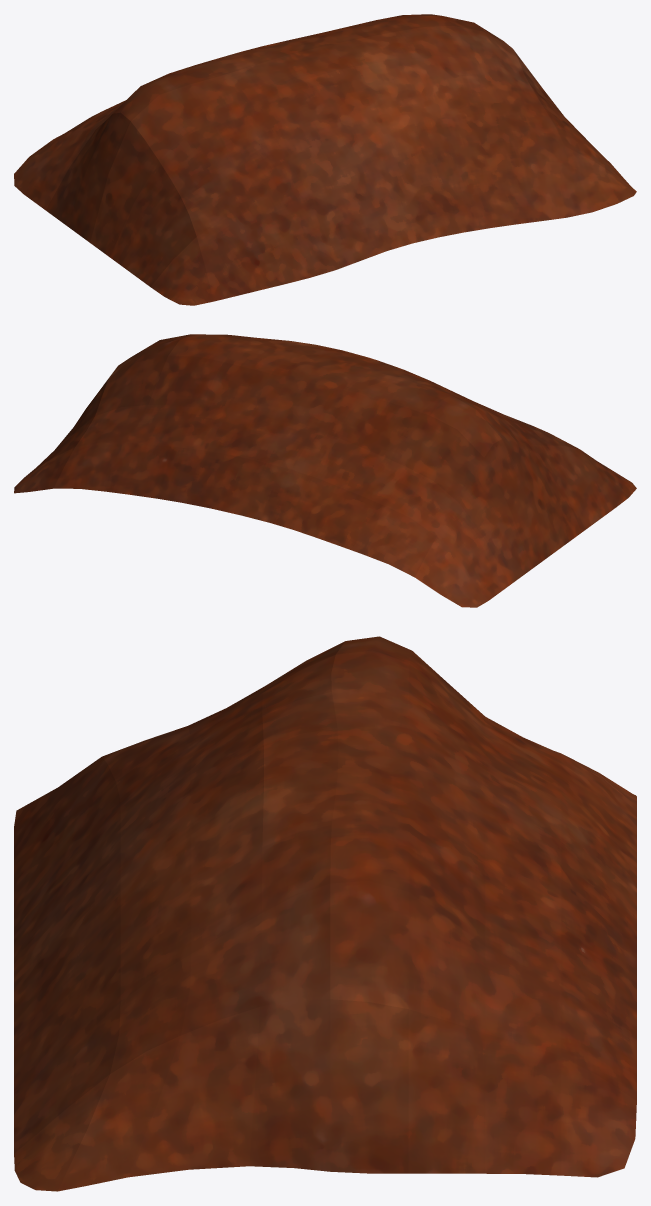
The model's file is Moutain_02.fbx.
3 views of the same model, one above another, from view 1: azimuth 30°, elevation 25°; view 2: azimuth 150°, elevation 25°; view 3: azimuth 270°, elevation 25° (orthographic). The views are drawn at different scales.
Parts seen in each view (by area): view 1: Moutain_02; view 2: Moutain_02; view 3: Moutain_02.
Part boxes in pixels (x1=…): Moutain_02: x1=14, y1=14, x2=636, y2=305; Moutain_02: x1=14, y1=334, x2=636, y2=607; Moutain_02: x1=14, y1=636, x2=636, y2=1191.
Size of the model in its own units: 3320 by 964 by 2225.
